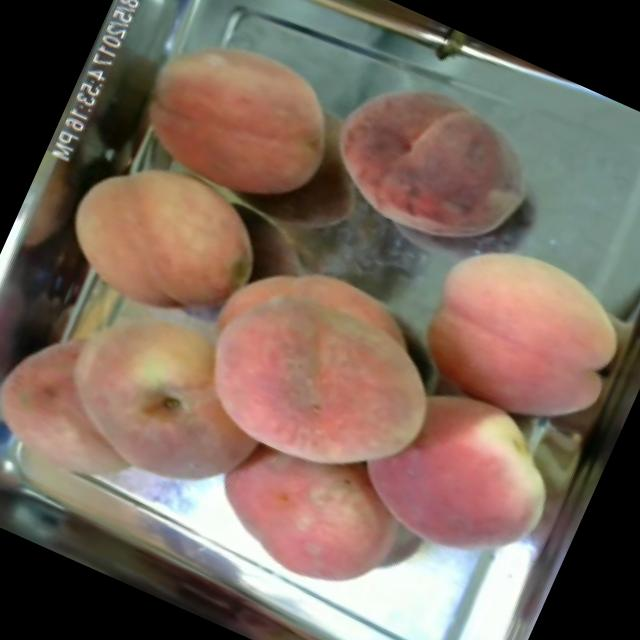Fruit: (158, 222, 480, 522), (0, 231, 309, 530), (298, 41, 566, 284), (384, 212, 640, 464), (331, 356, 587, 595), (31, 127, 289, 360), (110, 5, 362, 232), (185, 404, 428, 622)
